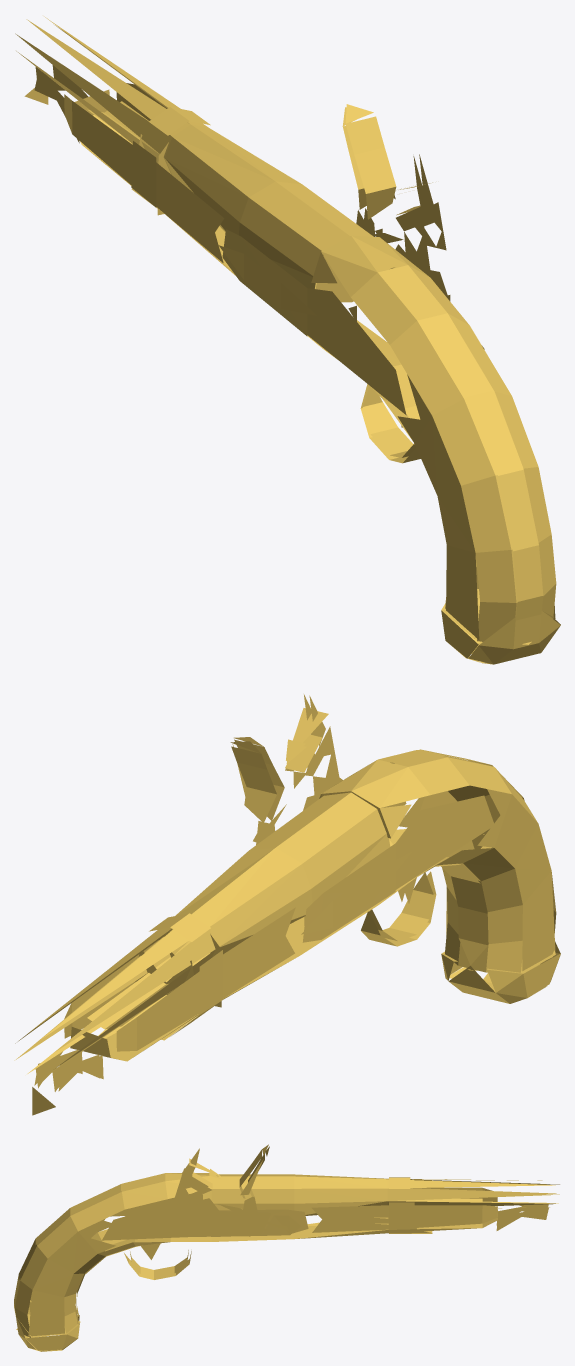
File: charm_mst_pistol_15.glb
3 views of the same model, one above another, from view 1: azimuth 30°, elevation 25°; view 2: azimuth 150°, elevation 25°; view 3: azimuth 270°, elevation 25° (orthographic). The views are drawn at different scales.
Visible parts, largest first — view 1: p0_paint; view 2: p0_paint; view 3: p0_paint.
Boxes of the visible parts, x1,y1,x2,y2 form: p0_paint: (15,16,560,664); p0_paint: (14,694,560,1115); p0_paint: (14,1144,559,1351).
Size of the model in its own units: 0.0484 by 0.1513 by 0.35.
